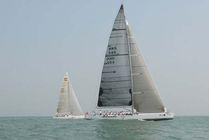fanchuan: (92, 1, 175, 121), (52, 74, 88, 122)
